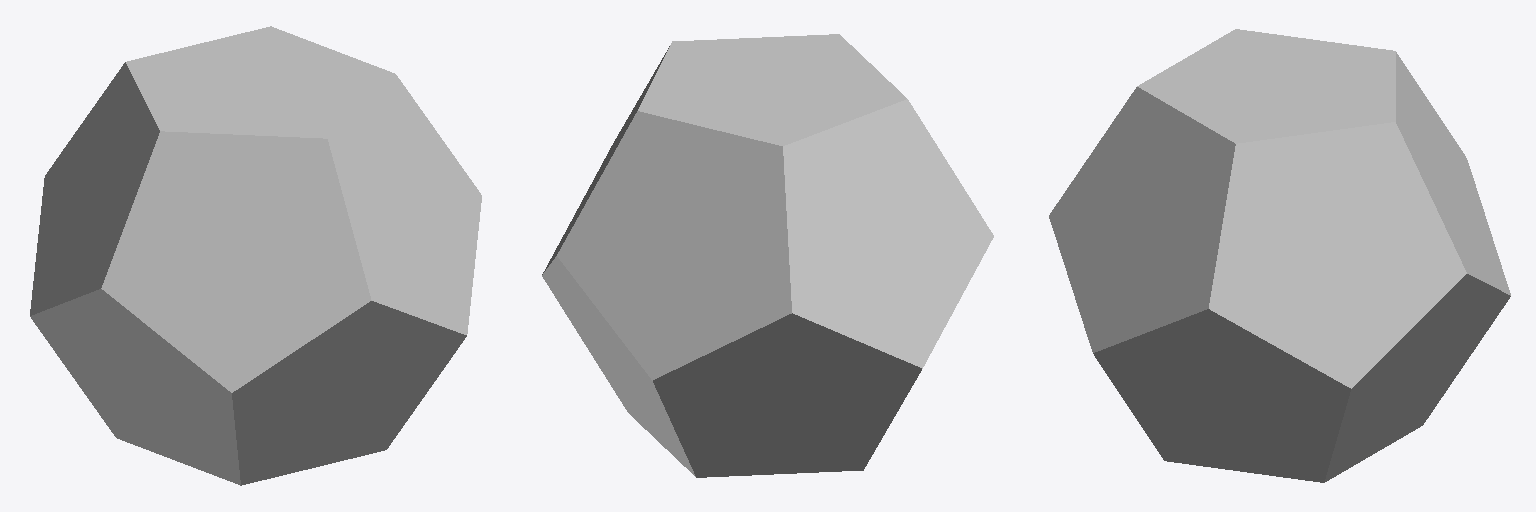
The model's file is LP-D12Collider.obj.
The picture shows the model from 3 angles: view 1: azimuth 30°, elevation 25°; view 2: azimuth 150°, elevation 25°; view 3: azimuth 270°, elevation 25°; orthographic projection.
Visible parts, largest first — view 1: Dodecahedron_2In; view 2: Dodecahedron_2In; view 3: Dodecahedron_2In.
Part boxes in pixels (x1,y1,x2,y2): Dodecahedron_2In: (30,26,481,485); Dodecahedron_2In: (542,34,993,477); Dodecahedron_2In: (1049,29,1510,482).
Size of the model in its own units: 0.6868 by 0.5842 by 0.7221.